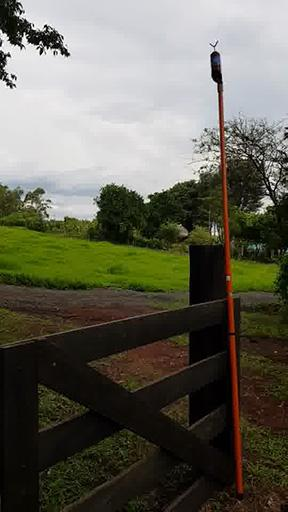Detector_Tensao_Contato: (208, 40, 223, 85)
Vara_Manobra: (215, 83, 245, 495)
